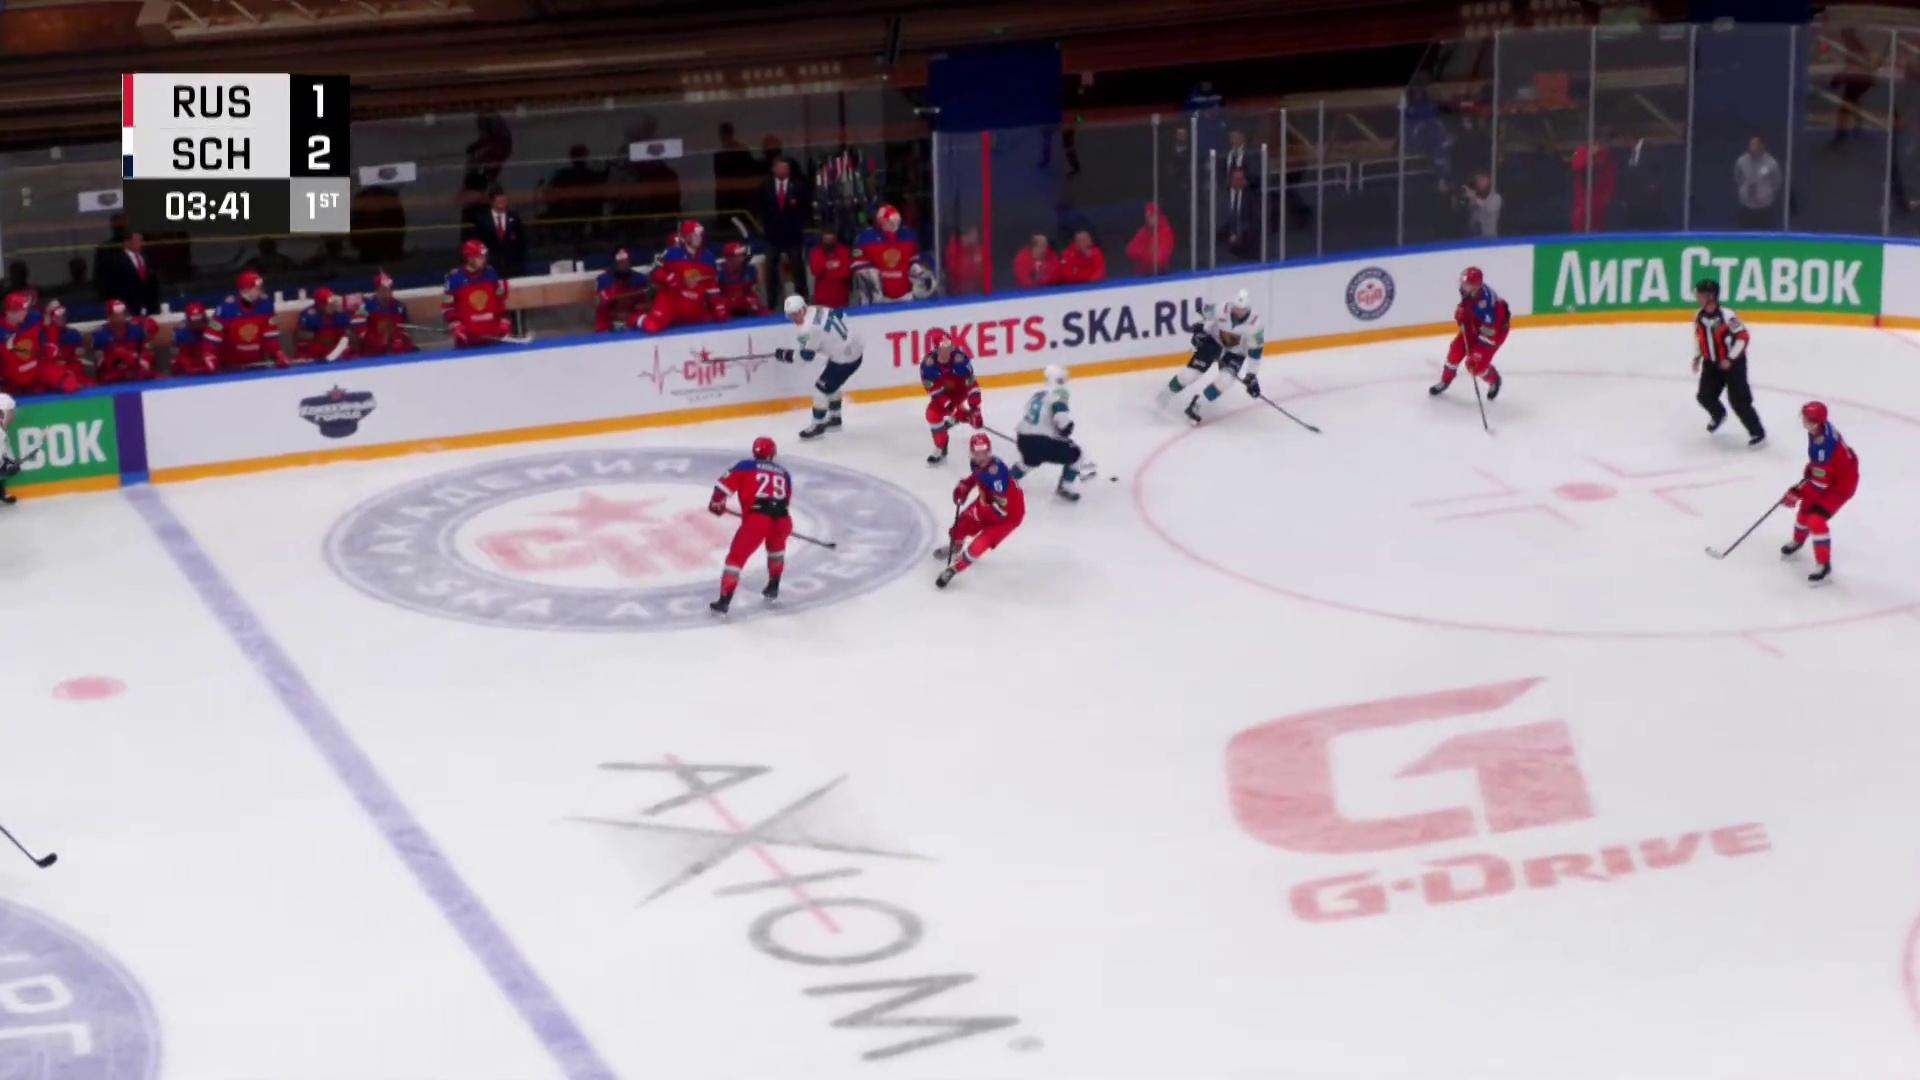ball: (1109, 476, 1120, 483)
